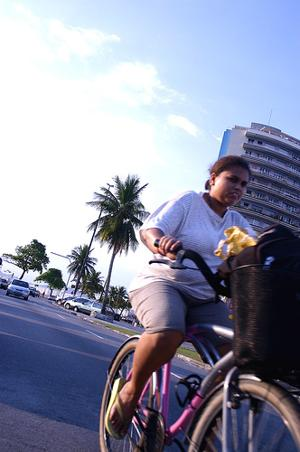person: (105, 157, 261, 452)
